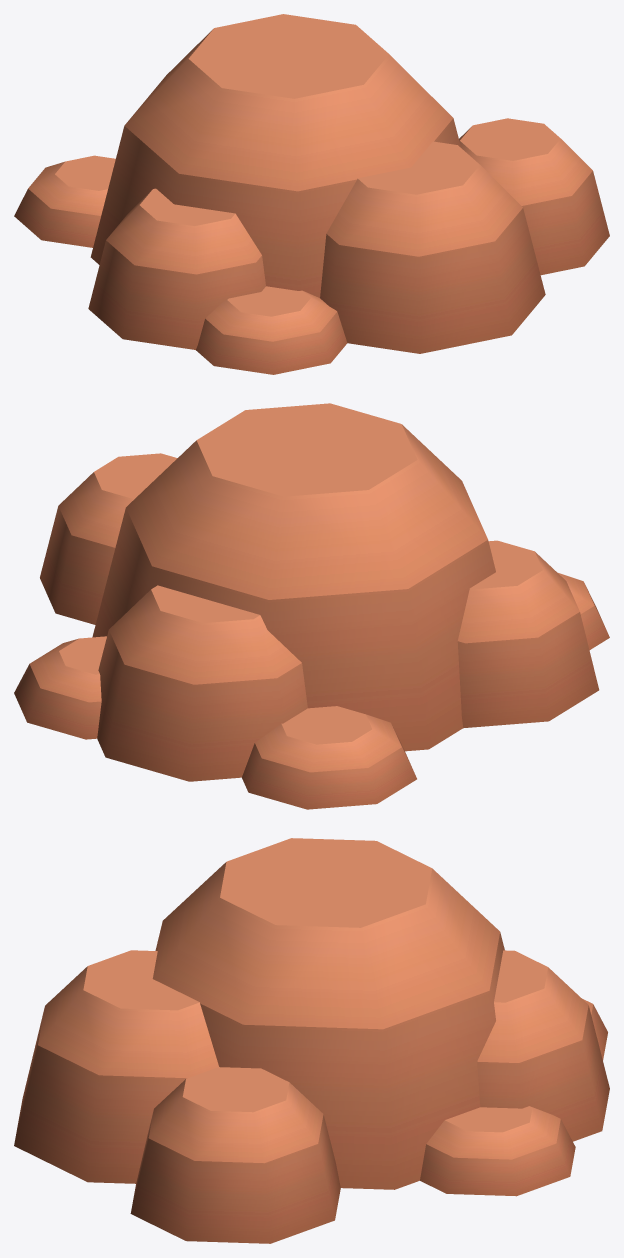
File: cargo-pile-b-transformed.glb
3 renders of one model, top to bottom at view 1: azimuth 30°, elevation 25°; view 2: azimuth 150°, elevation 25°; view 3: azimuth 270°, elevation 25°, orthographic. The views are drawn at different scales.
Parts seen in each view (by area): view 1: cargo-pile-b; view 2: cargo-pile-b; view 3: cargo-pile-b.
Part boxes in pixels (<box>): cargo-pile-b: <box>14,14,609,374</box>; cargo-pile-b: <box>14,403,609,809</box>; cargo-pile-b: <box>14,838,609,1243</box>.
Size of the model in its own units: 3.05 by 1.2 by 2.97.
1 material, 1 textured.
